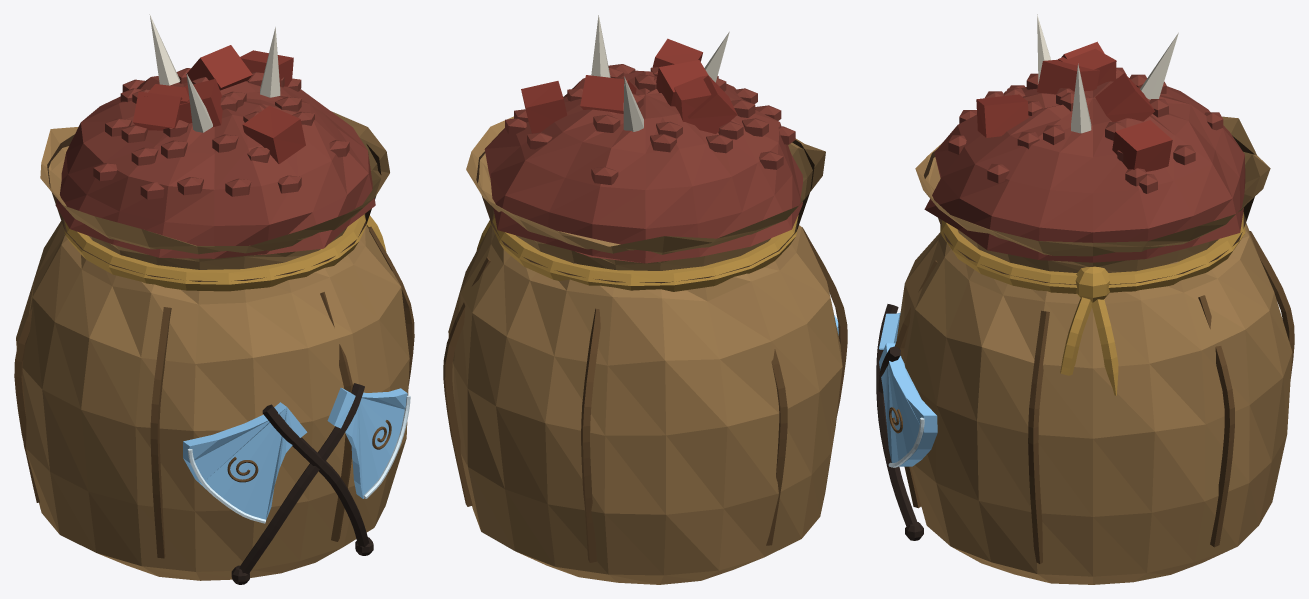
File: VFP_Feed_FenrirBite.obj
3 renders of one model, left to right at view 1: azimuth 30°, elevation 25°; view 2: azimuth 150°, elevation 25°; view 3: azimuth 270°, elevation 25°, orthographic.
Parts seen in each view (by area): view 1: Sack, Feed, Symbol_rune, Meat, Cord, Folds, Symbol, Claws, Symbol_edge, SackInner, Symbol_sack_dark; view 2: Sack, Feed, Meat, Folds, Cord, Claws, SackInner; view 3: Sack, Feed, Cord, Meat, Folds, Symbol_rune, Symbol, Claws, SackInner.
Part boxes in pixels (bbox=[...]): Sack: bbox=[16, 111, 409, 580]; Feed: bbox=[55, 68, 375, 258]; Symbol_rune: bbox=[183, 387, 407, 520]; Meat: bbox=[133, 45, 305, 163]; Cord: bbox=[64, 214, 386, 291]; Folds: bbox=[14, 226, 414, 558]; Symbol: bbox=[231, 383, 373, 584]; Claws: bbox=[149, 14, 280, 132]; Symbol_edge: bbox=[188, 395, 410, 523]; SackInner: bbox=[47, 134, 381, 281]; Symbol_sack_dark: bbox=[227, 420, 391, 482]; Sack: bbox=[448, 116, 842, 584]; Feed: bbox=[484, 64, 802, 263]; Meat: bbox=[521, 38, 737, 133]; Folds: bbox=[443, 227, 847, 562]; Cord: bbox=[476, 214, 798, 291]; Claws: bbox=[591, 15, 729, 131]; SackInner: bbox=[476, 140, 814, 283]; Sack: bbox=[896, 116, 1292, 584]; Feed: bbox=[924, 67, 1245, 262]; Cord: bbox=[940, 212, 1245, 395]; Meat: bbox=[976, 41, 1172, 171]; Folds: bbox=[895, 231, 1294, 563]; Symbol_rune: bbox=[879, 312, 937, 466]; Symbol: bbox=[876, 304, 923, 540]; Claws: bbox=[1037, 14, 1178, 133]; SackInner: bbox=[924, 135, 1254, 284].
Bounding box in the file's own units: 0.269 × 0.3677 × 0.283.
